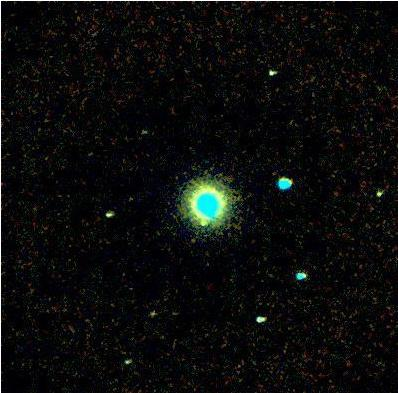star: (186, 207, 216, 237)
